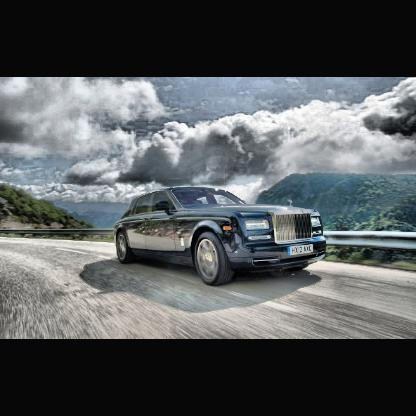Rolls-Royce Phantom Sedan 2012: (115, 185, 331, 288)
